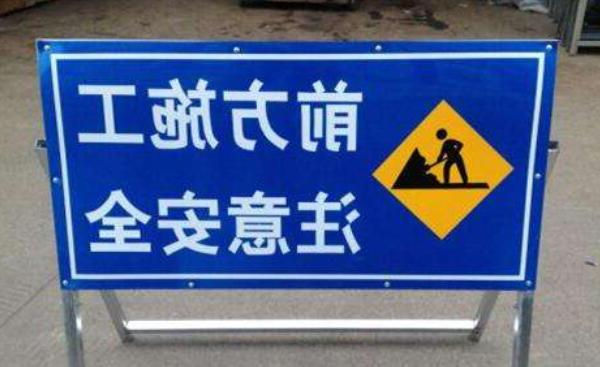sign: (33, 36, 554, 290)
